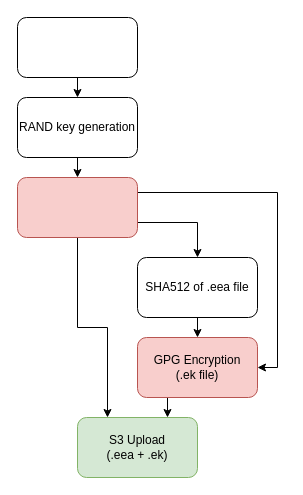
This 303x495 diagram has some shape labels left out. The box of each missing label's shape, as (x1, y1, x2, y2) in pixels:
AES256 Encryption (.eea file): (16, 176, 138, 238)
Archive Compression (.ec file): (16, 16, 138, 78)
